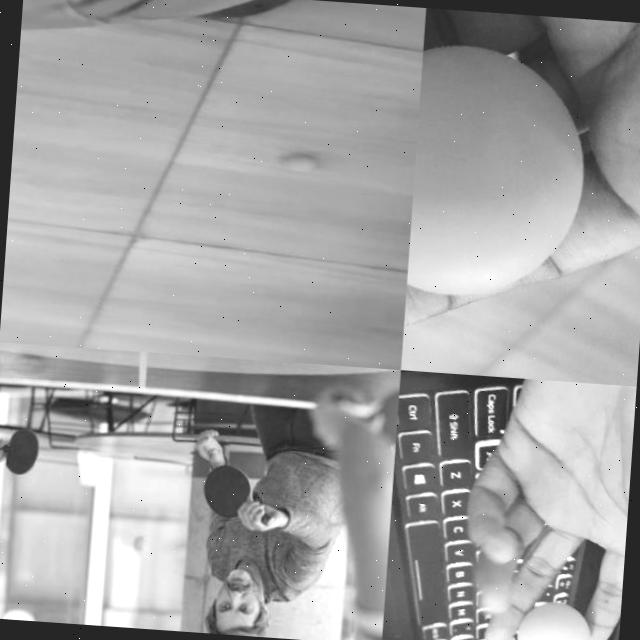ping-pong-ball: (406, 42, 593, 301), (518, 598, 588, 640), (279, 153, 316, 171), (134, 534, 148, 550)
